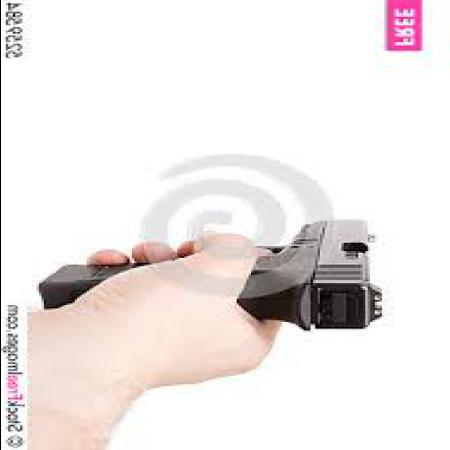Pistol: (33, 222, 393, 336)
